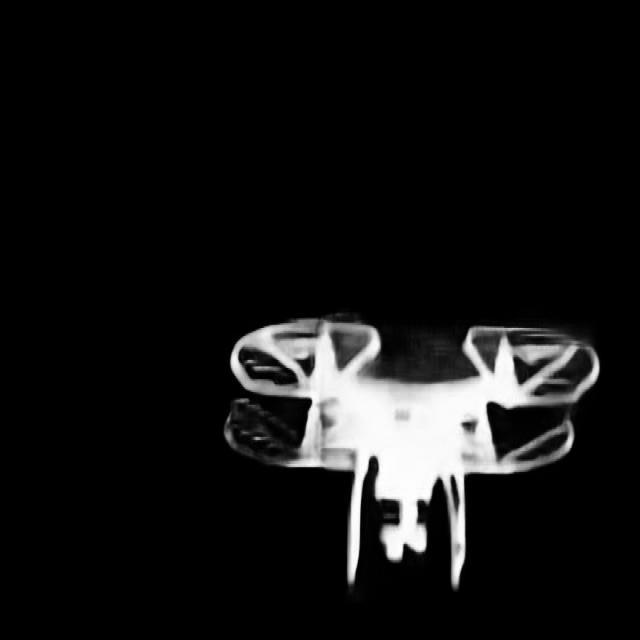drone: (180, 270, 632, 610)
